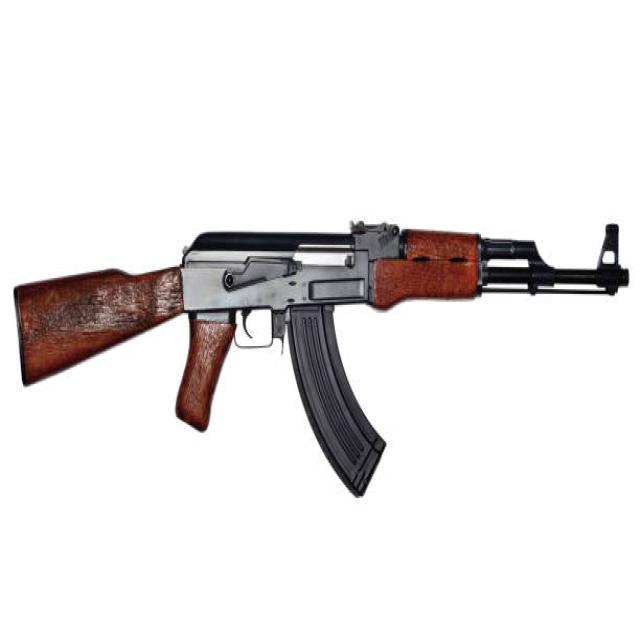rifle: (8, 210, 635, 510)
